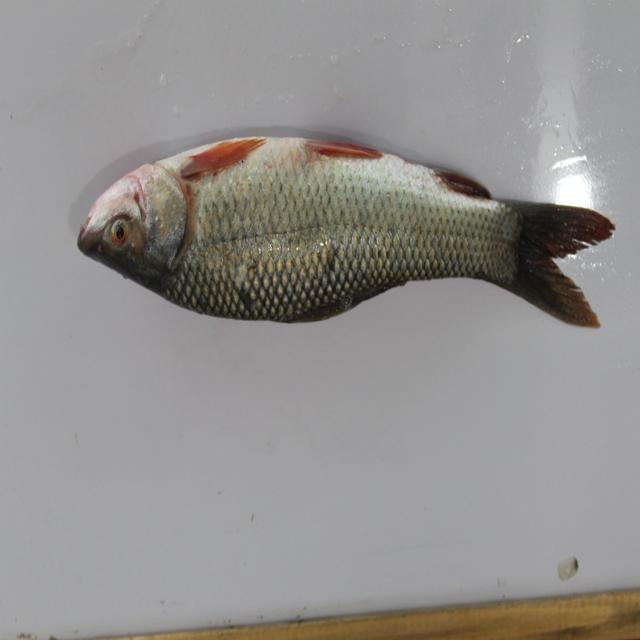Rohu: (57, 126, 625, 341)
